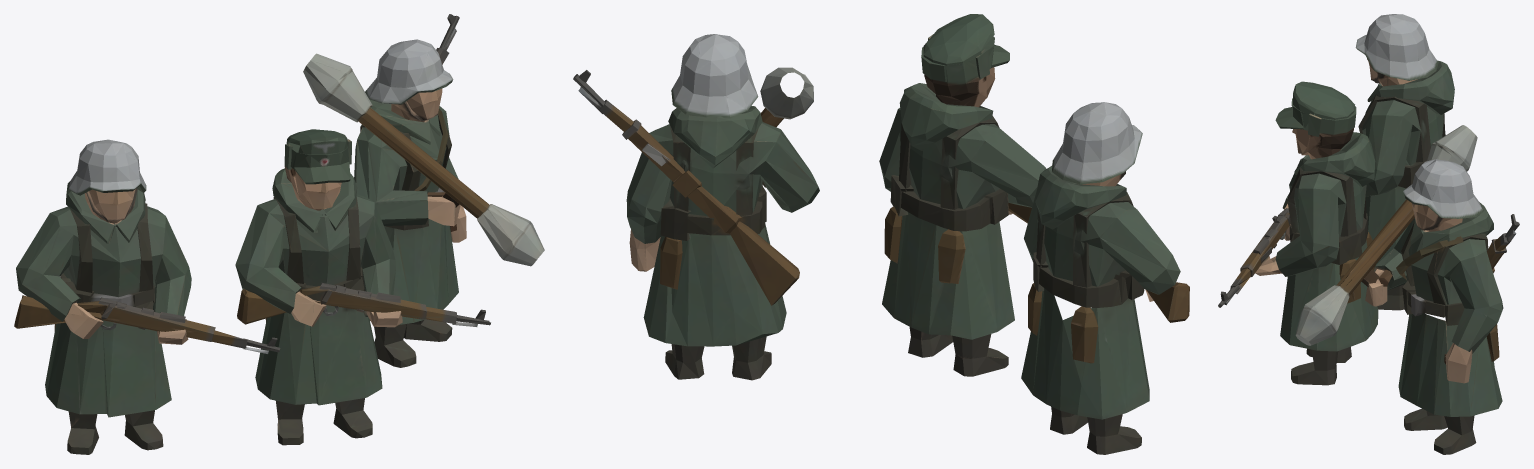
The model's file is bulge_german_inf.glb.
3 views of the same model, side by side, from view 1: azimuth 30°, elevation 25°; view 2: azimuth 150°, elevation 25°; view 3: azimuth 270°, elevation 25° (orthographic). The views are drawn at different scales.
Visible parts, largest first — view 1: figura; view 2: figura; view 3: figura.
Part boxes in pixels (box(x1,y1,x2,y2)): figura: box(14, 14, 544, 454); figura: box(573, 14, 1189, 454); figura: box(1218, 14, 1519, 454).
Size of the model in its own units: 1.16 by 0.6781 by 0.665.
Materials: 1 (1 with a texture image).
